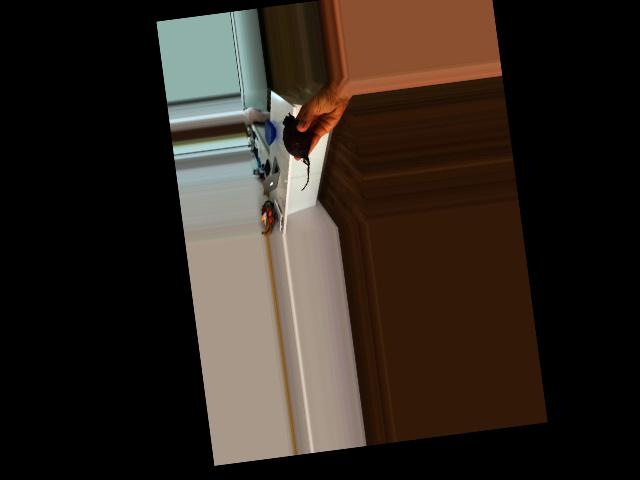beet: (280, 111, 317, 192)
